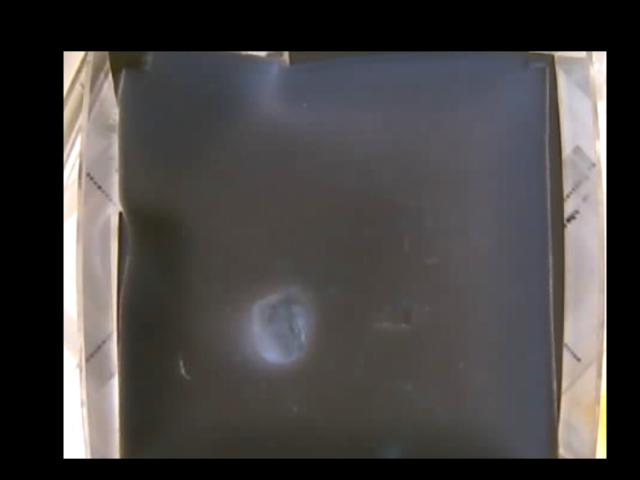Pebble: (251, 289, 309, 362)
